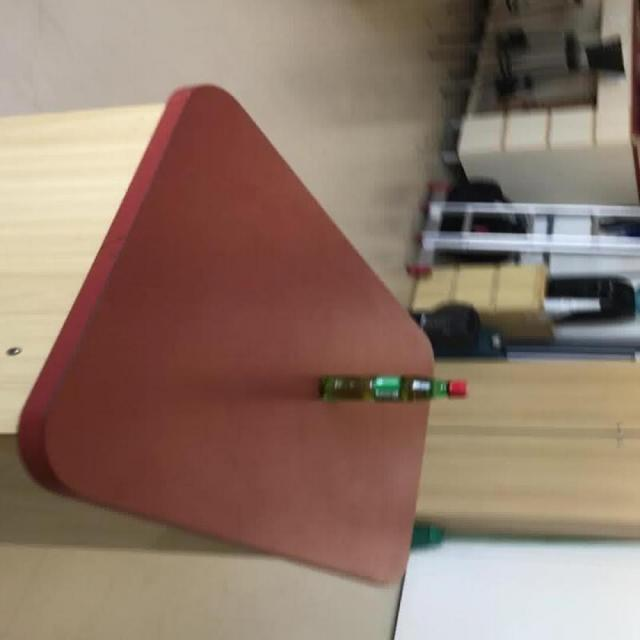Guarana: (16, 82, 466, 585)
